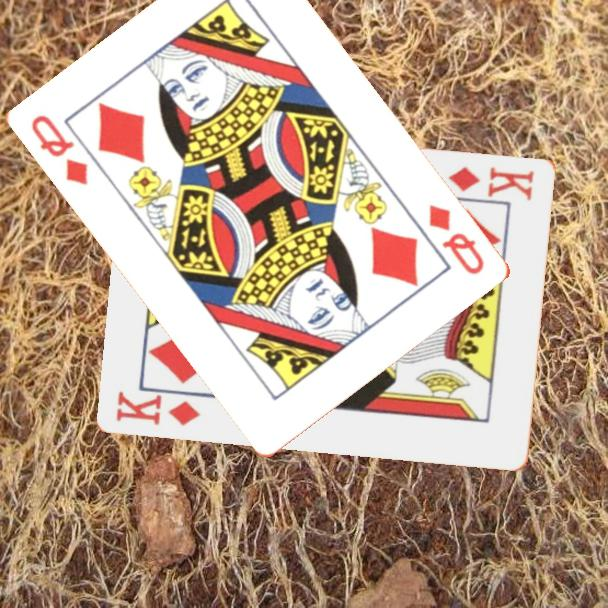d12: (28, 111, 92, 189), (426, 200, 488, 278)
d13: (113, 387, 204, 428), (446, 163, 537, 203)
